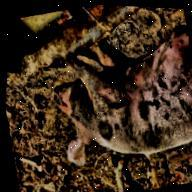boar: (35, 19, 192, 177)
